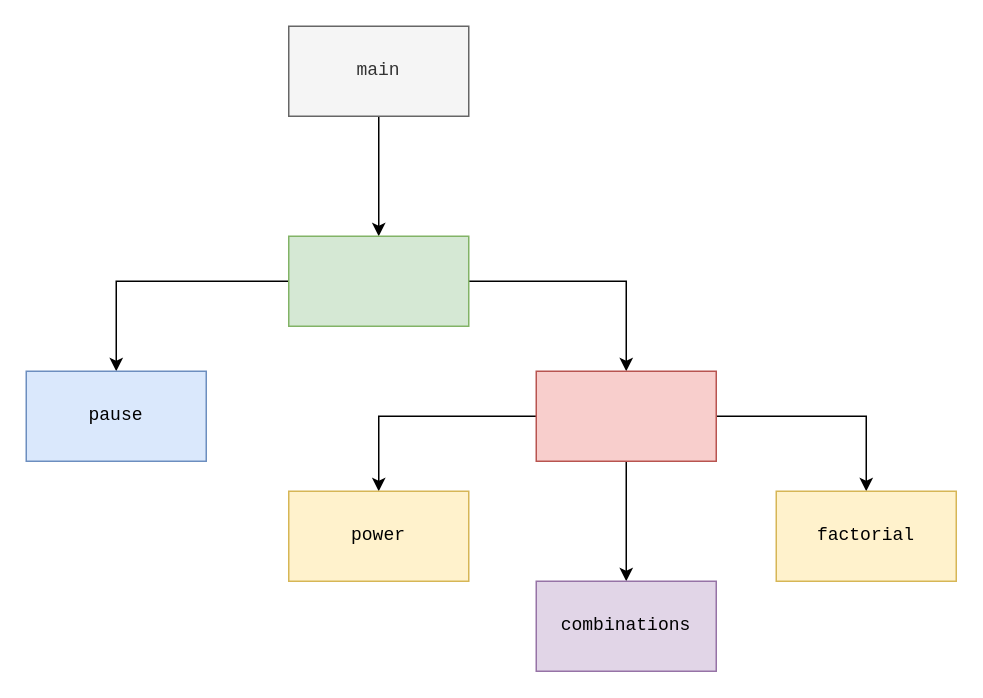
Image size: 983x698. Some labels were removed from this diagram. The box of each missing label's shape, as (x1, y1, x2, y2) in pixels:
menu: (287, 235, 469, 326)
results: (535, 370, 716, 461)
